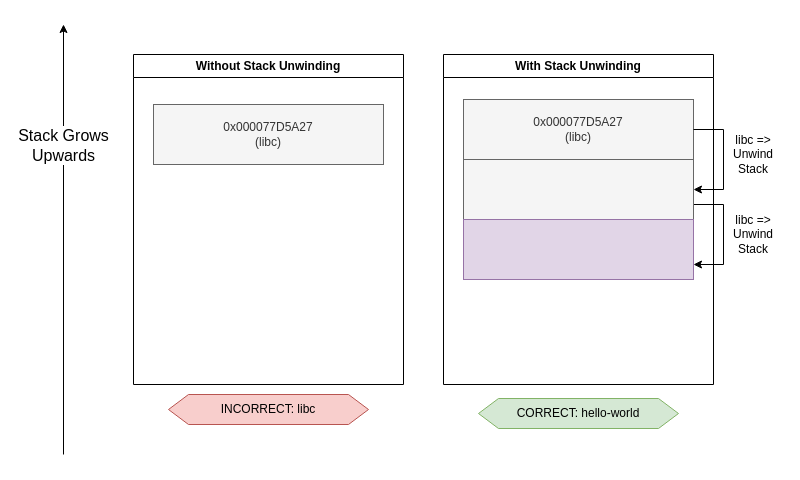
Some shapes in this 800 by 480 pixel diagram are drawn without their labels. The shapes that lost their labels are listed below. From the top down, each one's centre as x and y in pixels, then its label:
At (578,189): "0x00007E642FD (libc)".
At (578,249): "0x0000722AE12 (./hello-world)".
